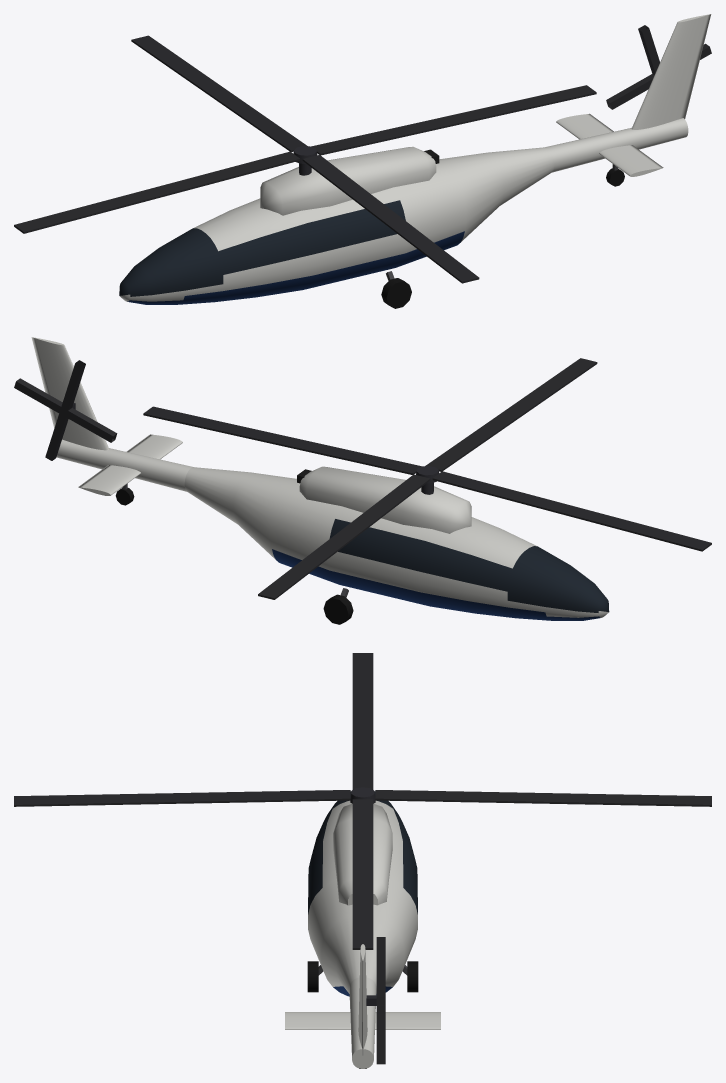
3 views of the same model, one above another, from view 1: azimuth 30°, elevation 25°; view 2: azimuth 150°, elevation 25°; view 3: azimuth 270°, elevation 25° (orthographic). The views are drawn at different scales.
Visible parts, largest first — view 1: s76; view 2: s76; view 3: s76.
Boxes of the visible parts, x1,y1,x2,y2 form: s76: (14,14,711,308); s76: (14,337,711,624); s76: (14,653,711,1068).
Size of the model in its own units: 16.38 by 4.3 by 13.41.
